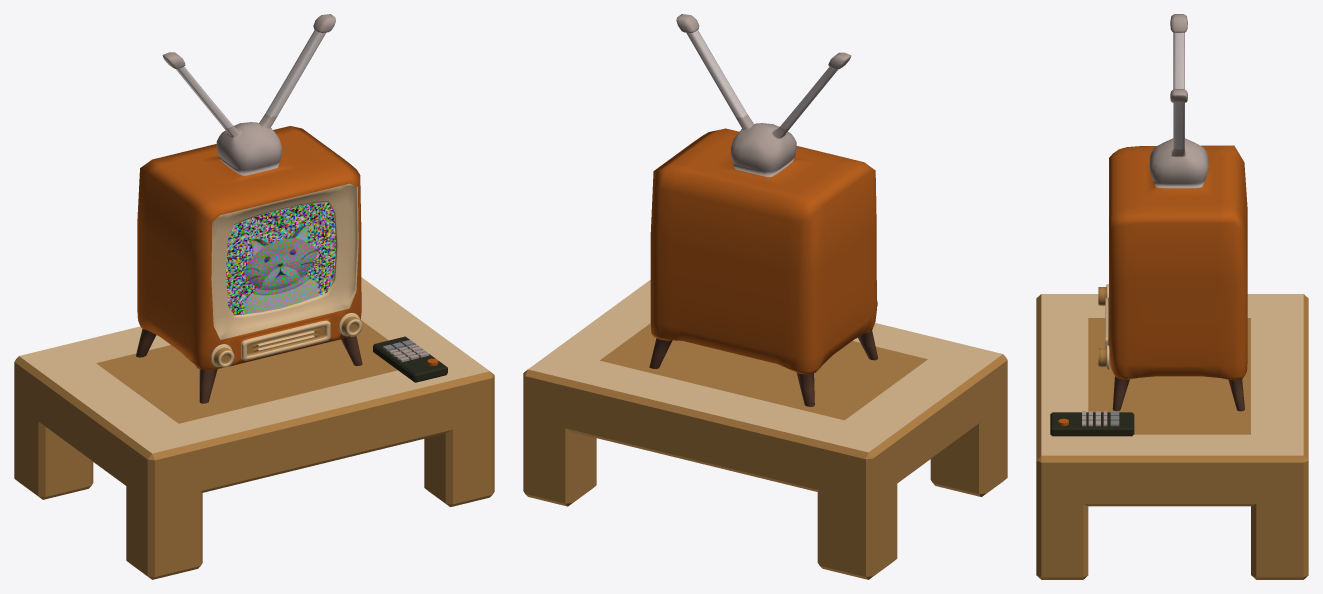
The model's file is tvSet.fbx.
The picture shows the model from 3 angles, left to right: view 1: azimuth 30°, elevation 25°; view 2: azimuth 150°, elevation 25°; view 3: azimuth 270°, elevation 25°; orthographic projection. The views are drawn at different scales.
Parts seen in each view (by area): view 1: tvTable, tv, tvOnScreen_toggle, remote; view 2: tvTable, tv; view 3: tvTable, tv, remote.
Boxes of the visible parts, x1=… form: tvTable: x1=14, y1=277, x2=494, y2=579; tv: x1=136, y1=14, x2=362, y2=403; tvOnScreen_toggle: x1=226, y1=202, x2=336, y2=315; remote: x1=373, y1=336, x2=447, y2=382; tvTable: x1=523, y1=280, x2=1007, y2=579; tv: x1=649, y1=14, x2=877, y2=406; tvTable: x1=1036, y1=294, x2=1308, y2=579; tv: x1=1098, y1=14, x2=1247, y2=411; remote: x1=1050, y1=411, x2=1134, y2=436.
Bounding box in the file's own units: 39.97 × 49.84 × 27.67.
1 material, 1 textured.
